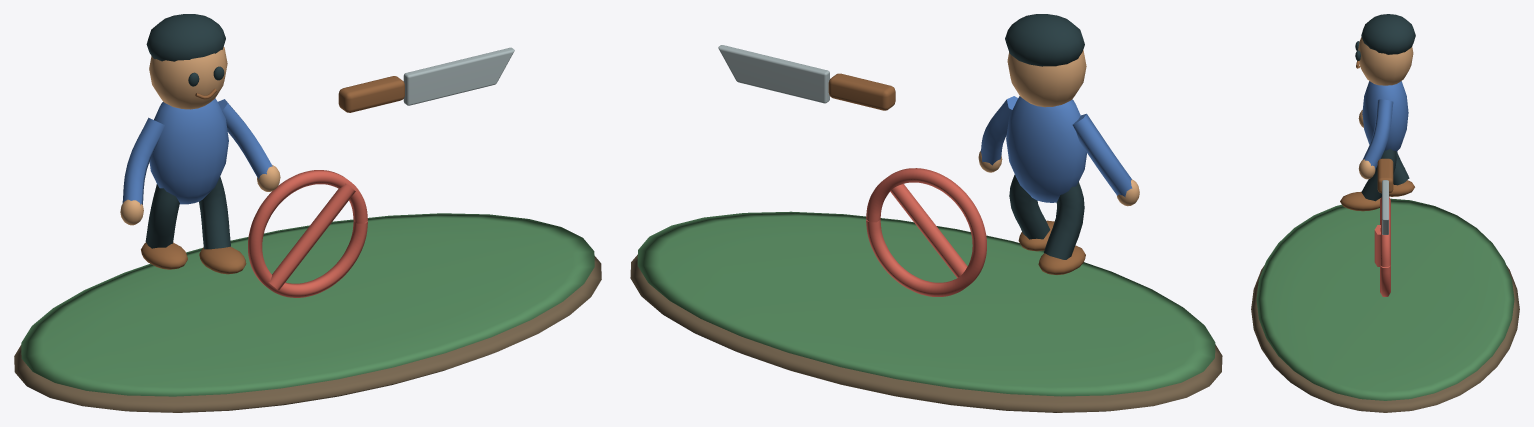
The model's file is complete-first-dont-cut-off.glb.
3 renders of one model, left to right at view 1: azimuth 30°, elevation 25°; view 2: azimuth 150°, elevation 25°; view 3: azimuth 270°, elevation 25°, orthographic. The views are drawn at different scales.
Visible parts, largest first — view 1: complete-first-dont-cut-off_surface_01, complete-first-dont-cut-off_surface_00, complete-first-dont-cut-off_surface_05, complete-first-dont-cut-off_surface_07, complete-first-dont-cut-off_surface_03, complete-first-dont-cut-off_surface_02, complete-first-dont-cut-off_surface_04, complete-first-dont-cut-off_surface_06; view 2: complete-first-dont-cut-off_surface_01, complete-first-dont-cut-off_surface_00, complete-first-dont-cut-off_surface_05, complete-first-dont-cut-off_surface_07, complete-first-dont-cut-off_surface_03, complete-first-dont-cut-off_surface_06, complete-first-dont-cut-off_surface_02, complete-first-dont-cut-off_surface_04; view 3: complete-first-dont-cut-off_surface_01, complete-first-dont-cut-off_surface_00, complete-first-dont-cut-off_surface_05, complete-first-dont-cut-off_surface_03, complete-first-dont-cut-off_surface_02, complete-first-dont-cut-off_surface_04, complete-first-dont-cut-off_surface_07, complete-first-dont-cut-off_surface_06.
Boxes of the visible parts, box(x1,y1,x2,y2) form: complete-first-dont-cut-off_surface_01: box(21, 213, 594, 396); complete-first-dont-cut-off_surface_00: box(14, 256, 601, 412); complete-first-dont-cut-off_surface_05: box(122, 98, 272, 205); complete-first-dont-cut-off_surface_07: box(248, 170, 367, 297); complete-first-dont-cut-off_surface_03: box(145, 14, 230, 249); complete-first-dont-cut-off_surface_02: box(120, 46, 280, 225); complete-first-dont-cut-off_surface_04: box(141, 76, 404, 274); complete-first-dont-cut-off_surface_06: box(403, 47, 514, 105); complete-first-dont-cut-off_surface_01: box(637, 211, 1215, 396); complete-first-dont-cut-off_surface_00: box(630, 254, 1222, 412); complete-first-dont-cut-off_surface_05: box(980, 96, 1132, 202); complete-first-dont-cut-off_surface_07: box(866, 168, 986, 296); complete-first-dont-cut-off_surface_03: box(1005, 14, 1084, 259); complete-first-dont-cut-off_surface_06: box(718, 45, 829, 103); complete-first-dont-cut-off_surface_02: box(978, 50, 1139, 206); complete-first-dont-cut-off_surface_04: box(828, 73, 1085, 274); complete-first-dont-cut-off_surface_01: box(1256, 198, 1514, 400); complete-first-dont-cut-off_surface_00: box(1251, 265, 1519, 412); complete-first-dont-cut-off_surface_05: box(1362, 81, 1408, 169); complete-first-dont-cut-off_surface_03: box(1355, 14, 1415, 201); complete-first-dont-cut-off_surface_02: box(1358, 37, 1413, 179); complete-first-dont-cut-off_surface_04: box(1340, 61, 1414, 211); complete-first-dont-cut-off_surface_07: box(1374, 197, 1390, 296); complete-first-dont-cut-off_surface_06: box(1382, 180, 1388, 234).
Bounding box in the file's own units: 4.56 × 2.67 × 2.5.
